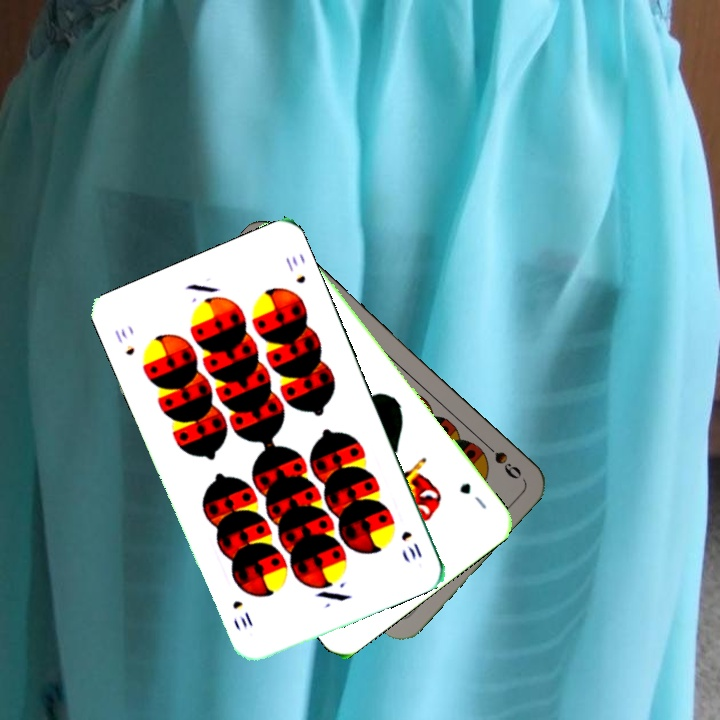GU: (455, 478, 490, 512)
S10: (397, 526, 425, 562), (110, 324, 138, 358)
S9: (477, 436, 524, 482)
